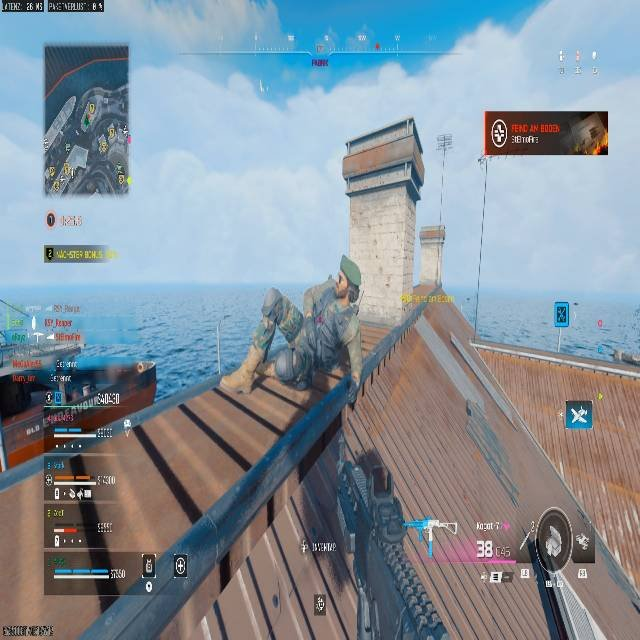head: (334, 258, 363, 304)
player: (221, 258, 363, 400)
